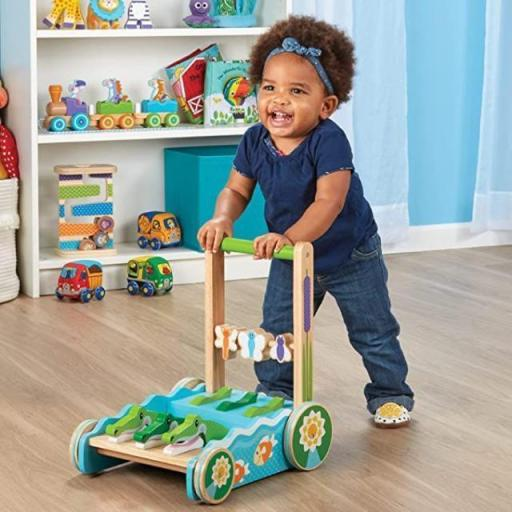baby: (196, 14, 414, 429)
